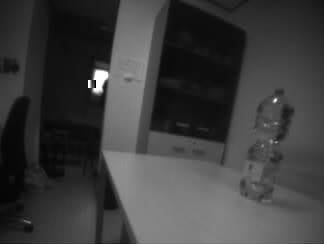Bottle: (238, 87, 297, 202)
